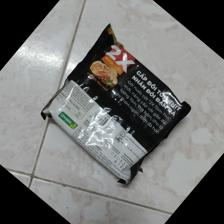3mien: (39, 23, 193, 185)
